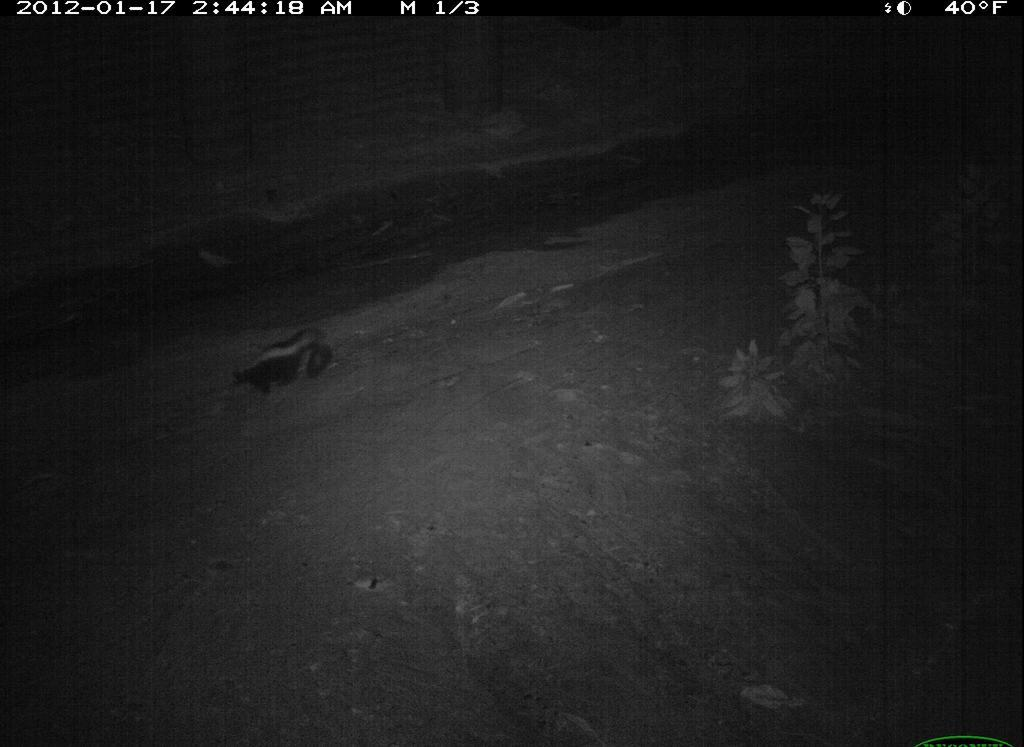skunk: (219, 322, 338, 411)
